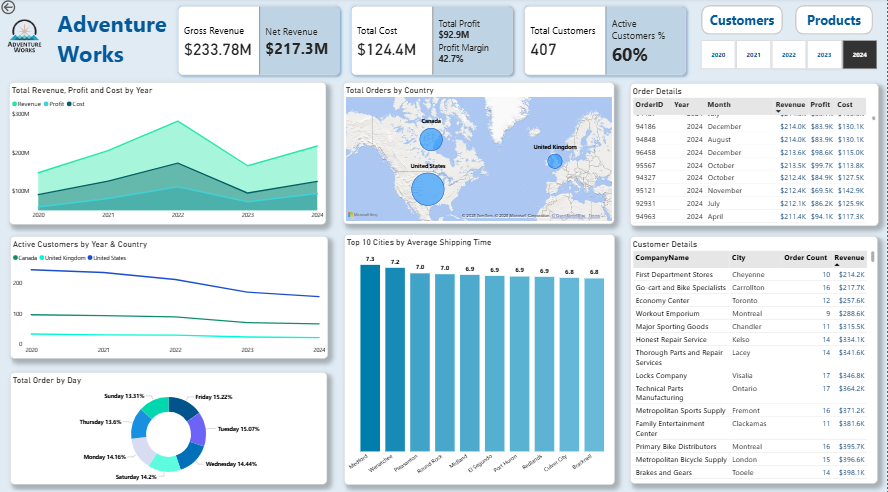

What the dashboard file says about the page in this screenshot:
{"tool":"powerbi","page":{"name":"Sales Overview","canvas":[1920,1080],"ordinal":0},"visuals":[{"type":"areaChart","title":"Total Revenue, Profit and Cost by Year","fields":{"Category":["OrderDate.FullDateAlternateKey.Variation.Date Hierarchy.Year","OrderDate.FullDateAlternateKey.Variation.Date Hierarchy.Quarter","OrderDate.FullDateAlternateKey.Variation.Date Hierarchy.Month","OrderDate.FullDateAlternateKey.Variation.Date Hierarchy.Day"],"Y":["FactSales.#Total Revenue","FactSales.#Profit","FactSales.#Total Cost"]},"box":[22.5,182.5,685,307.5],"z":0},{"type":"map","title":"Total Orders by Country","fields":{"Category":["DimCustomer.Country","DimCustomer.State"],"Size":["Count(FactSales.SalesOrderID)"]},"box":[742.1,181.4,586,307],"z":1000},{"type":"tableEx","title":"Order Details","fields":{"Values":["FactSales.SalesOrderID","OrderDate.FullDateAlternateKey.Variation.Date Hierarchy.Year","OrderDate.FullDateAlternateKey.Variation.Date Hierarchy.Month","FactSales.#Total Revenue","FactSales.#Profit","FactSales.#Total Cost"]},"box":[1362.8,183.7,537.2,309.3],"z":2000},{"type":"lineChart","title":"Total Quantity by Category & Year","fields":{"Category":["OrderDate.FullDateAlternateKey.Variation.Date Hierarchy.Year","OrderDate.FullDateAlternateKey.Variation.Date Hierarchy.Quarter","OrderDate.FullDateAlternateKey.Variation.Date Hierarchy.Month","OrderDate.FullDateAlternateKey.Variation.Date Hierarchy.Day"],"Y":["Sum(FactSales.Quantity)"],"Series":["DimProduct.Category"]},"box":[23.3,514,686,267.4],"z":3000},{"type":"clusteredColumnChart","title":"Total Revenue & Profit by Category","fields":{"Category":["DimProduct.Category"],"Y":["FactSales.#Total Revenue","FactSales.#Profit"]},"box":[743.3,515,586.7,535],"z":4000},{"type":"donutChart","title":"Top 7 Product Model by Profit","fields":{"Y":["FactSales.#Profit"],"Category":["DimProduct.ProductModel"]},"box":[22.5,807.5,685,242.5],"z":5000},{"type":"tableEx","title":"Product Details","fields":{"Values":["DimProduct.ProductModel","DimProduct.Category","FactSales.#Total Revenue","FactSales.#Profit","FactSales.#Total Cost"]},"box":[1362.5,515,535,535],"z":6000},{"type":"cardVisual","fields":{"Data":["FactSales.#RevenueWithTax","FactSales.#Total Cost","FactSales.#Order Count"]},"box":[368.6,0,1135.7,184.3],"z":7000},{"type":"image","box":[0,20,110,126.7],"z":8000},{"type":"textbox","box":[120,16.7,246.7,163.3],"z":9000},{"type":"actionButton","box":[1517.1,15.7,177.1,64.3],"z":10000},{"type":"actionButton","box":[1718.6,15.7,168.6,64.3],"z":11000},{"type":"slicer","fields":{"Values":["FactSales.OrderDate.Variation.Date Hierarchy.Year"]},"box":[1490,84.3,430,75.7],"z":12000}]}

Visuals, with their boxes in screenshot pixels (x1, y1, x2, y2), scaled from the page's 1920x1080 canvas onto the 888x492 screenshot:
"Total Revenue, Profit and Cost by Year" areaChart: l=10, t=83, r=327, b=223
"Total Orders by Country" map: l=343, t=83, r=614, b=222
"Order Details" tableEx: l=630, t=84, r=879, b=225
"Total Quantity by Category & Year" lineChart: l=11, t=234, r=328, b=356
"Total Revenue & Profit by Category" clusteredColumnChart: l=344, t=235, r=615, b=478
"Top 7 Product Model by Profit" donutChart: l=10, t=368, r=327, b=478
"Product Details" tableEx: l=630, t=235, r=878, b=478
cardVisual - FactSales.#RevenueWithTax x FactSales.#Total Cost: l=170, t=0, r=696, b=84
image: l=0, t=9, r=51, b=67
textbox: l=56, t=8, r=170, b=82
actionButton: l=702, t=7, r=784, b=36
actionButton: l=795, t=7, r=873, b=36
slicer - FactSales.OrderDate.Variation.Date Hierarchy.Year: l=689, t=38, r=887, b=73
